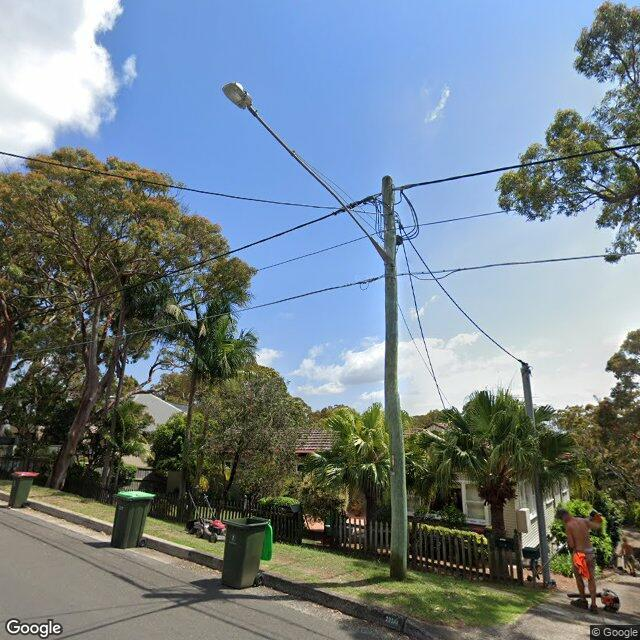streetlight: (223, 82, 393, 266)
timber-pole: (380, 176, 410, 581), (521, 363, 552, 587)
